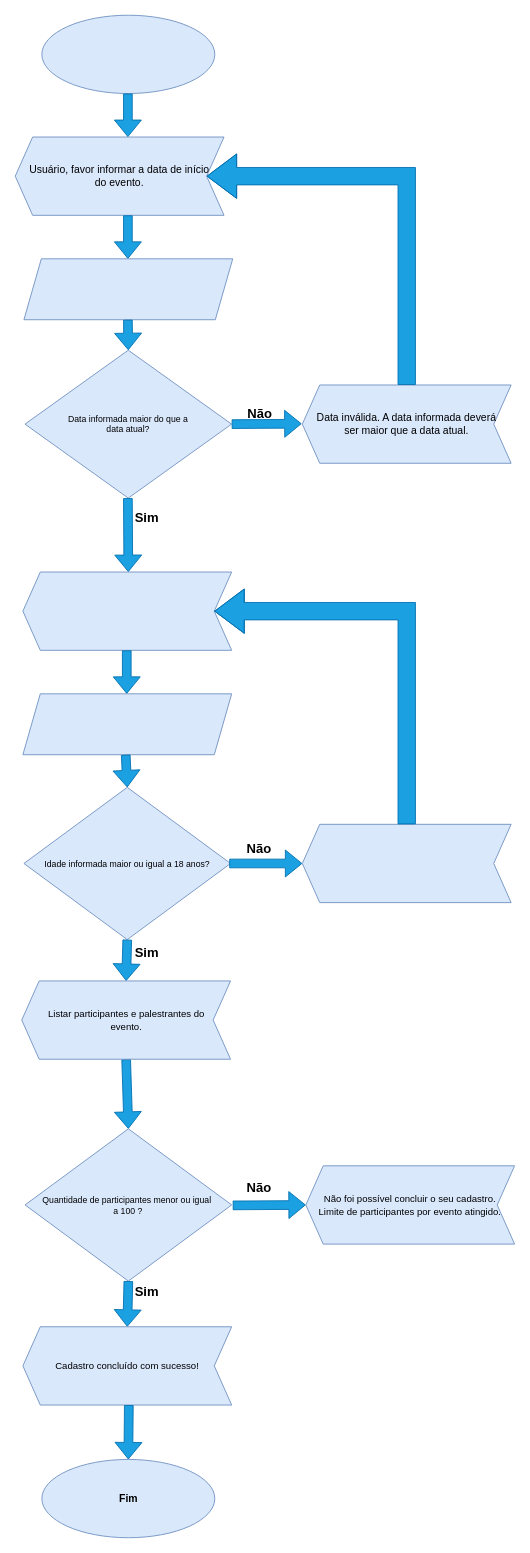
Image size: 530x1553. Some labels were removed from this diagram. Here are the shapes that lost their labels. From the top down, the box of each, then its label:
(41, 14, 215, 94): Início
(23, 258, 233, 320): Data de início do evento
(22, 571, 232, 650): Usuário, favor informar a sua idade.
(22, 693, 232, 755): Idade do usuário.
(301, 823, 511, 903): Idade inválida. A idade mínima permitida para o evento é de 18 anos.
